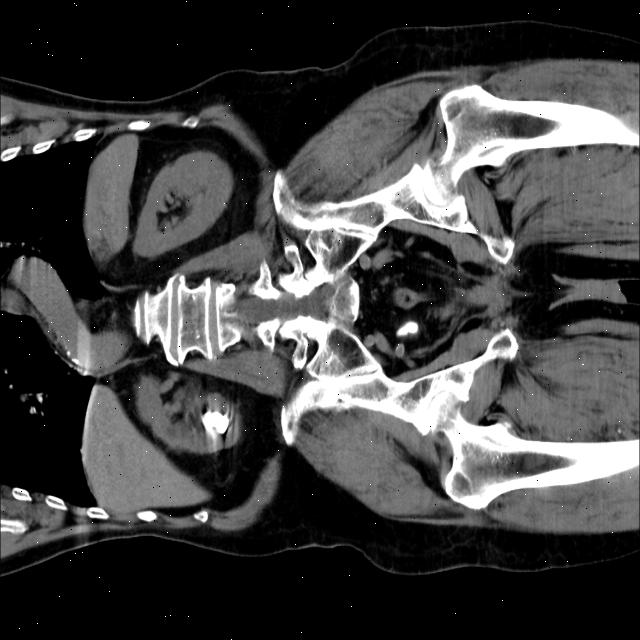kidneystone: (201, 411, 229, 433)
